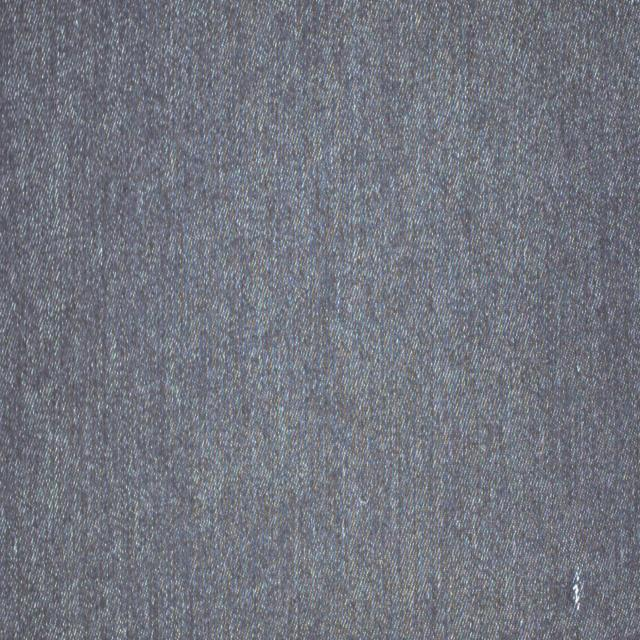Knot: (573, 567, 586, 612)
